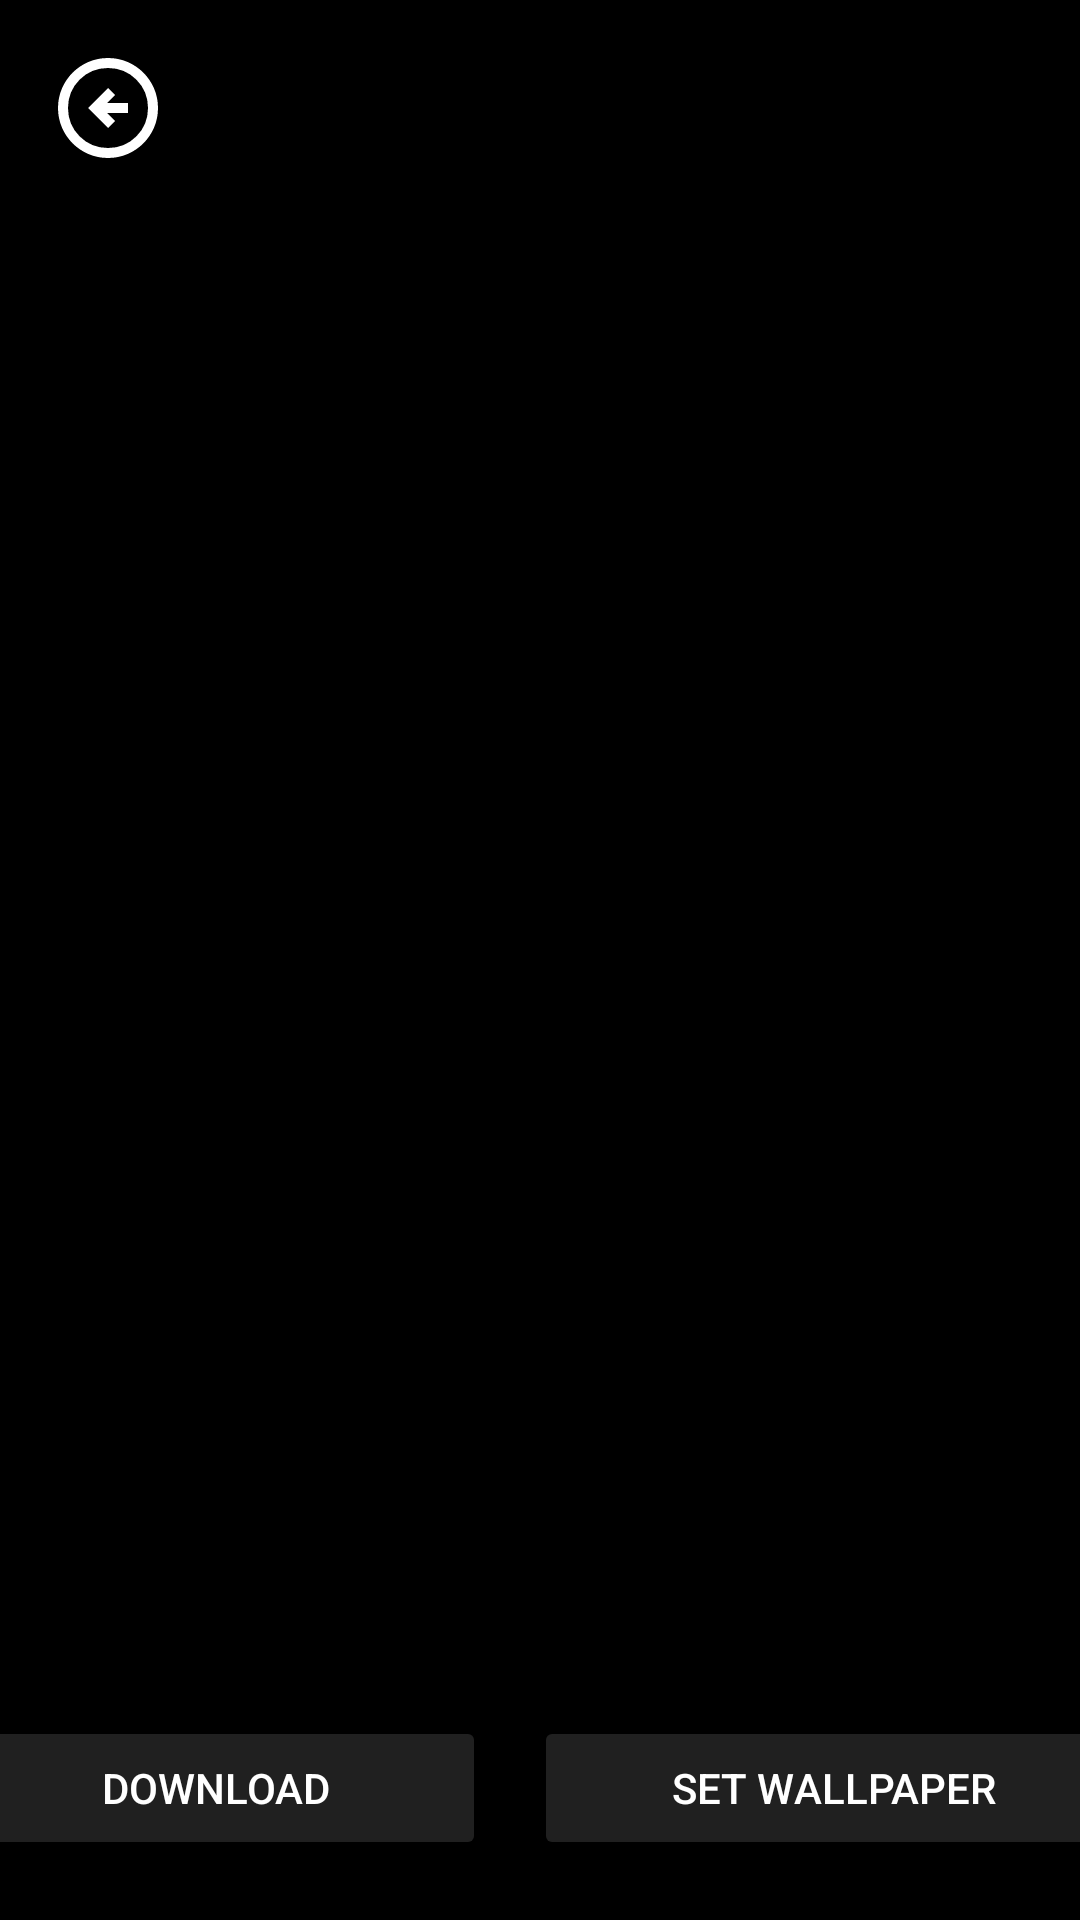

Where to tap for icons on this 1080 x 1920 app screen, as [x,y]:
back: [108,108]
